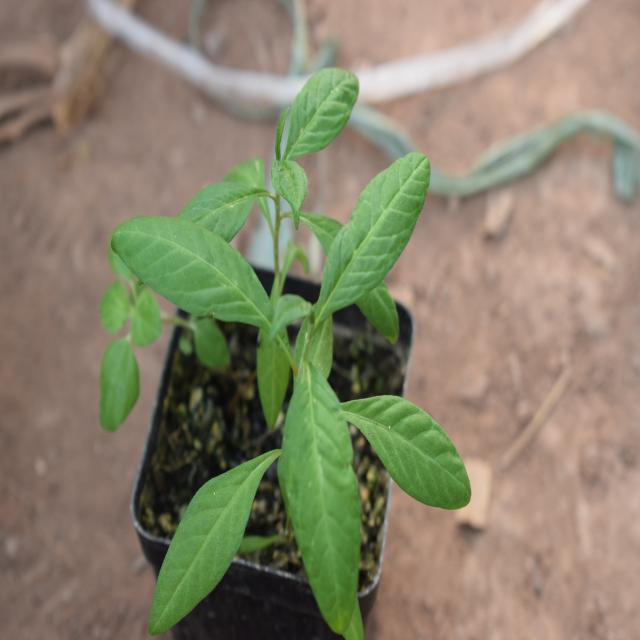white_smart_weed: (121, 170, 500, 601)
